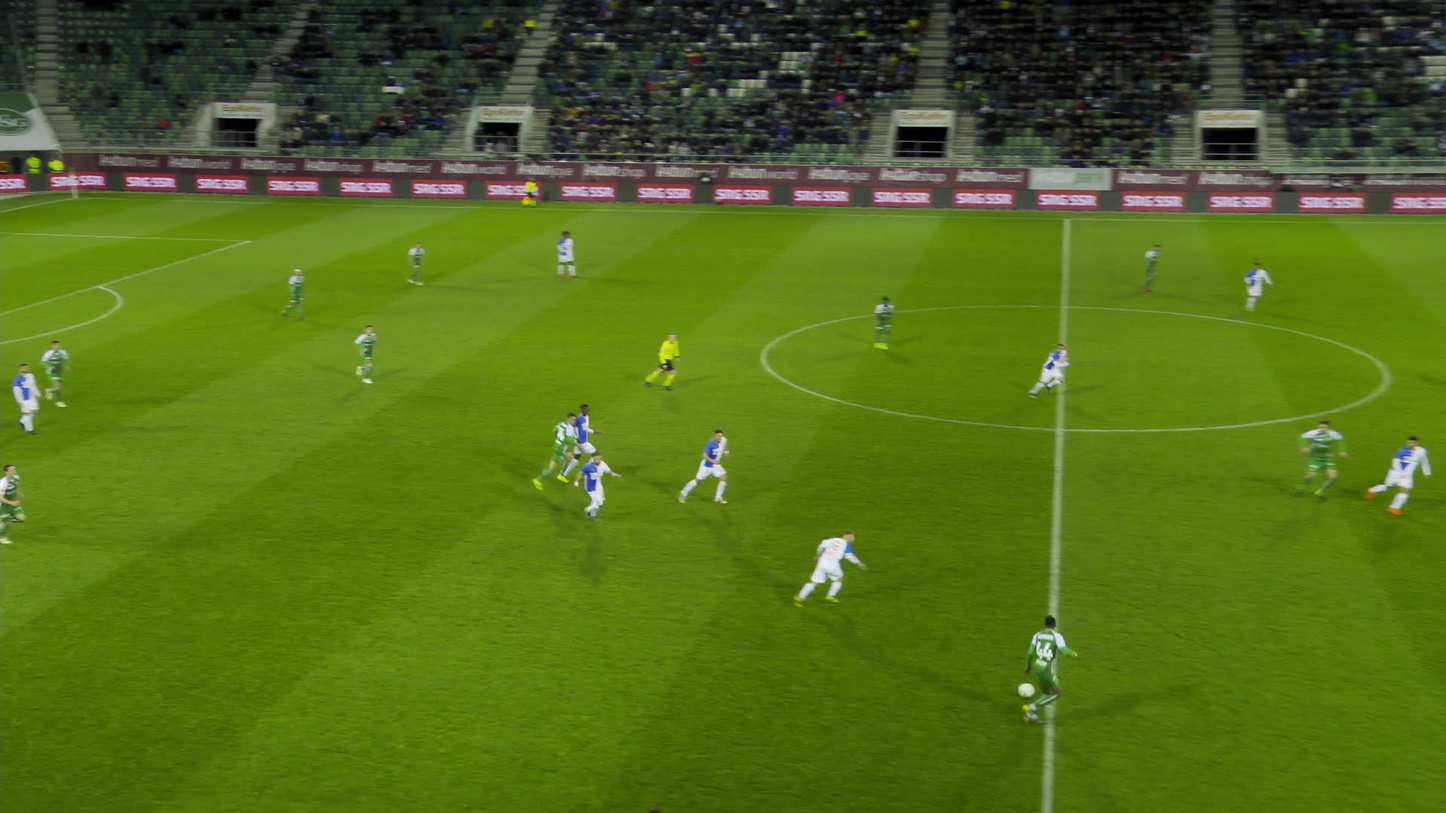ball: (1017, 683, 1034, 696)
player: (1006, 612, 1077, 724), (798, 529, 868, 611), (1379, 435, 1443, 513), (1298, 420, 1351, 499), (683, 425, 734, 505), (535, 414, 580, 491), (567, 450, 615, 521), (1030, 342, 1073, 401), (0, 463, 28, 542), (42, 340, 75, 407), (567, 405, 593, 488), (15, 363, 44, 434), (1243, 262, 1275, 313), (286, 267, 314, 320), (360, 324, 384, 385), (1139, 244, 1168, 292), (874, 295, 898, 350), (561, 230, 583, 279), (412, 242, 431, 285)
referee: (648, 332, 684, 391), (526, 175, 544, 207)
